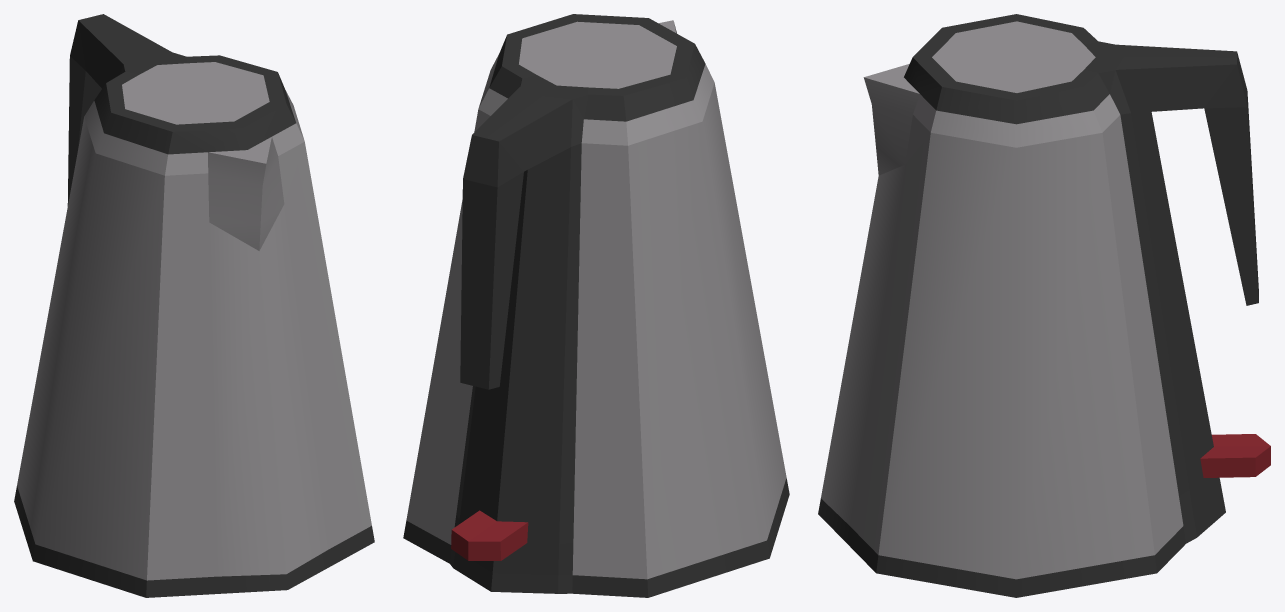
The model's file is Kettle-Hotel-Kitchen_01.fbx.
3 views of the same model, side by side, from view 1: azimuth 30°, elevation 25°; view 2: azimuth 150°, elevation 25°; view 3: azimuth 270°, elevation 25° (orthographic). The views are drawn at different scales.
Parts seen in each view (by area): view 1: Kettle_Hotel_01; view 2: Kettle_Hotel_01; view 3: Kettle_Hotel_01.
Boxes of the visible parts, x1=… form: Kettle_Hotel_01: x1=14, y1=14, x2=374, y2=597; Kettle_Hotel_01: x1=403, y1=14, x2=789, y2=597; Kettle_Hotel_01: x1=818, y1=14, x2=1270, y2=597.
Bounding box in the file's own units: 0.2436 × 0.309 × 0.2777.
